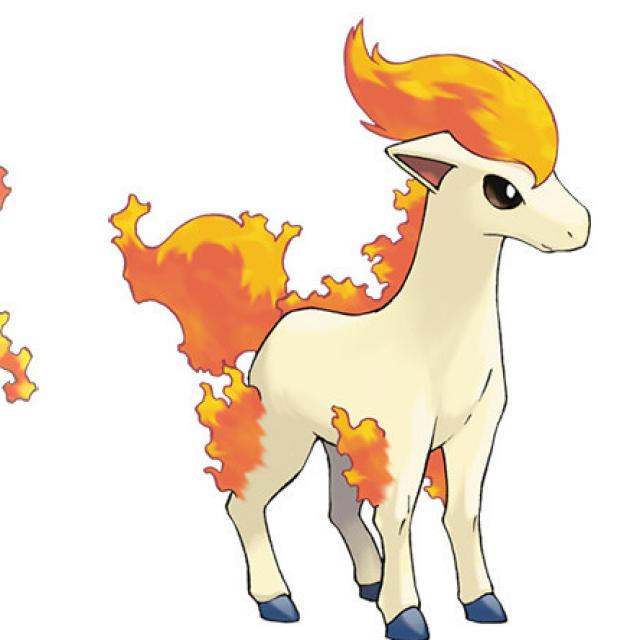Ponyta: (201, 26, 587, 630)
